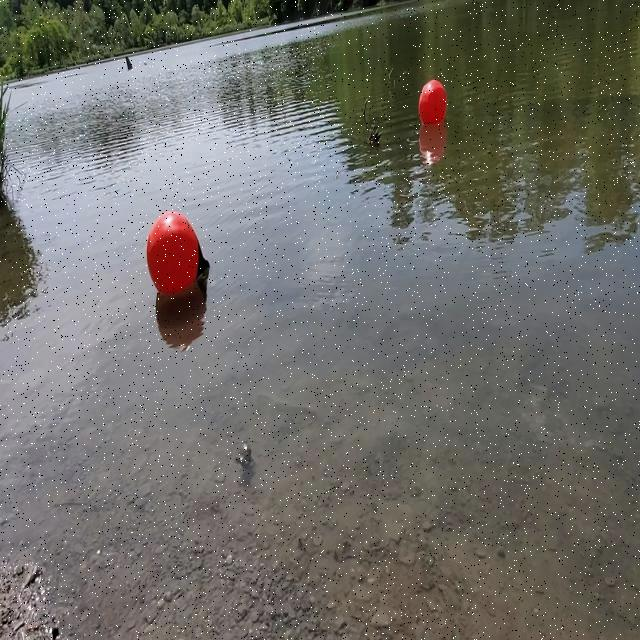buoy: (147, 210, 210, 300), (418, 77, 447, 130)
